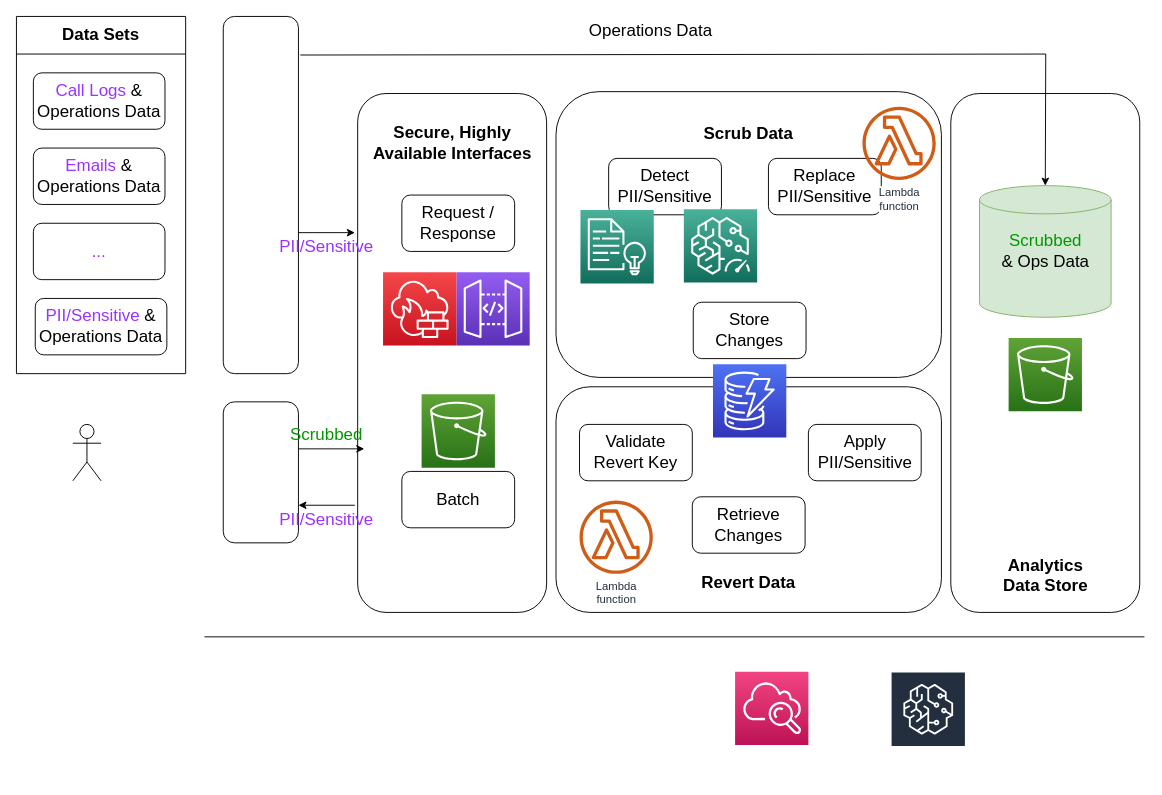
This 1162x795 diagram has some shape labels left out. The shapes that lost their labels are listed below. From the top down, each one's centre as x and y in pixels, then its label:
At (260,195): "ETL".
At (492,308): "Amazon API Gateway".
At (749,400): "Amazon DynamoDB".
At (86,452): "In-house BA".
At (260,472): "Debug, Reports, ...".
At (771,708): "Amazon CloudWatch".
At (928,723): "Amazon SageMaker".
